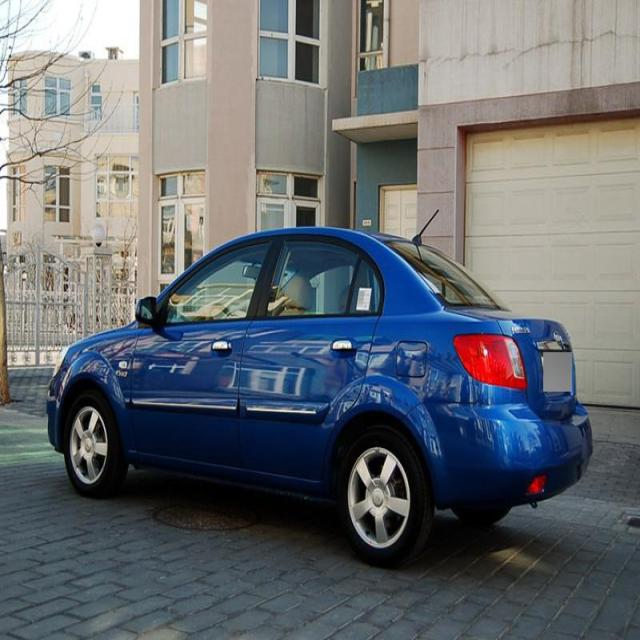back_glass: (382, 238, 509, 314)
back_left_side_light: (450, 332, 529, 390)
door: (268, 236, 366, 468)
front_left_side_door: (130, 232, 278, 488)
front_left_side_light: (50, 344, 72, 378)
front_left_side_mirror: (132, 286, 158, 325)
rear_bumper: (396, 398, 594, 512)
wheel: (334, 425, 428, 569), (65, 390, 121, 498)
